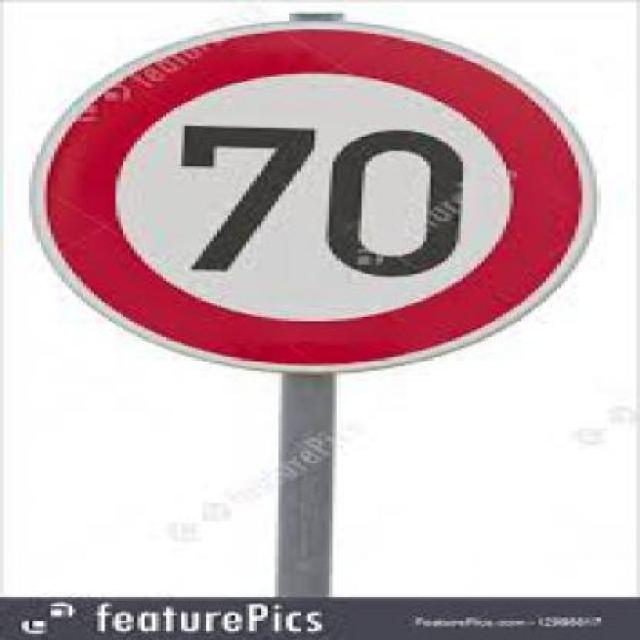forb_speed_over_70: (69, 36, 575, 362)
